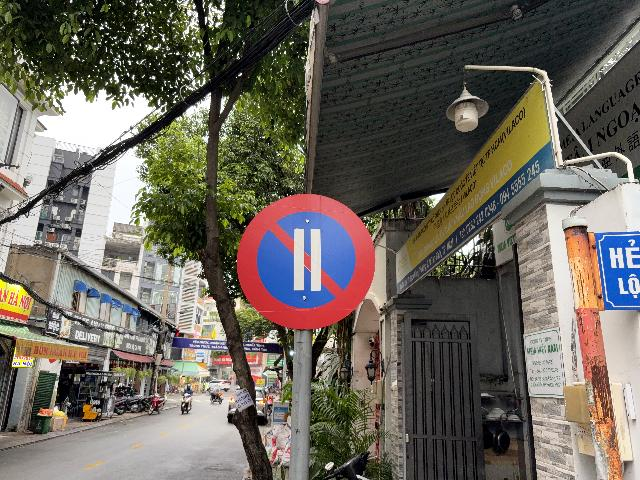cam-do-xe-ngay-chan: (236, 191, 375, 329)
